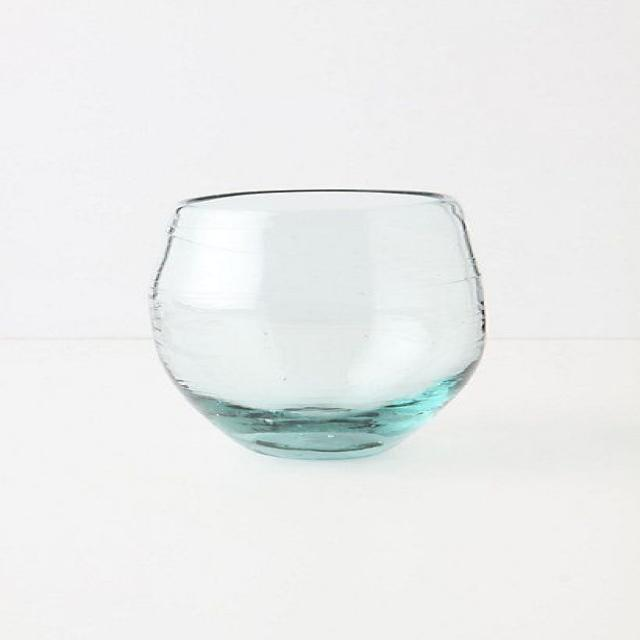Dry Waste: (145, 186, 494, 465)
